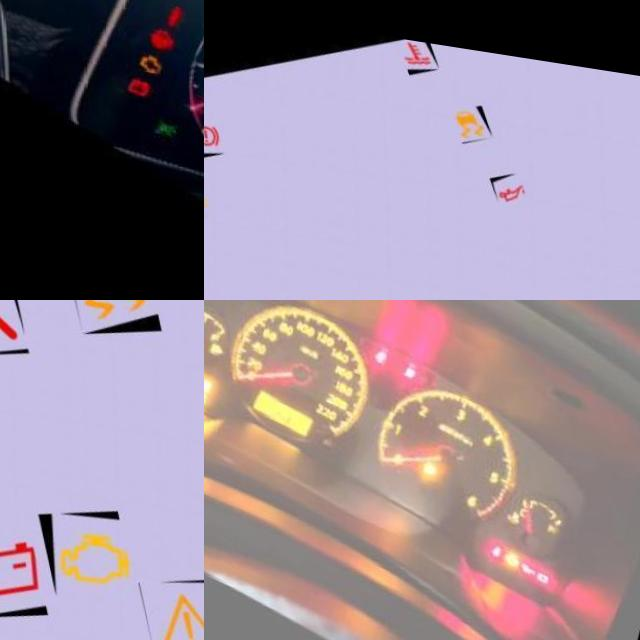Engine cooling system: (505, 490, 522, 508)
Low fuel level: (208, 334, 223, 351)
